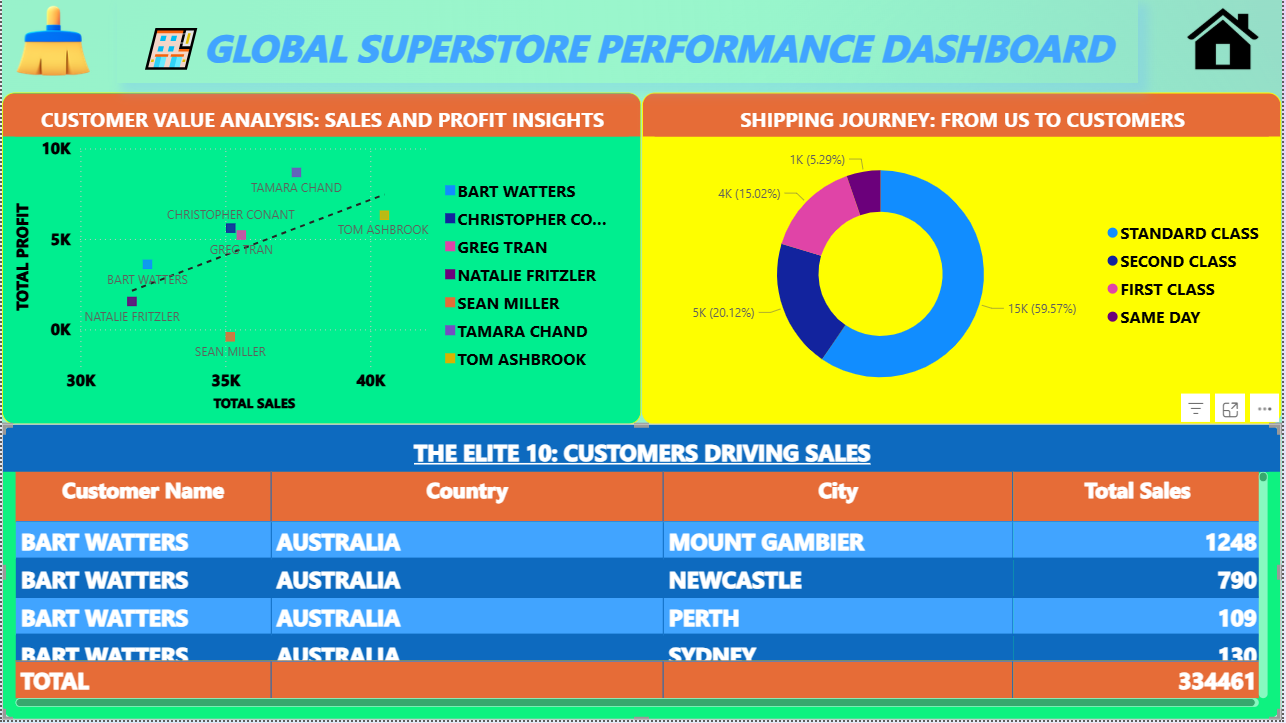

What the dashboard file says about the page in this screenshot:
{"tool":"powerbi","page":{"name":"CUSTOMER & OPERATIONAL INSIGHTS","canvas":[1280,720],"ordinal":2},"visuals":[{"type":"scatterChart","title":"CUSTOMER VALUE ANALYSIS: SALES AND PROFIT INSIGHTS","fields":{"X":["Orders.Total Sales"],"Y":["Orders.Total Profit"],"Category":["Orders.Customer Name"],"Series":["Orders.Customer Name"]},"box":[0,91.9,639.5,332.1],"z":0},{"type":"donutChart","title":"SHIPPING JOURNEY: FROM US TO CUSTOMERS","fields":{"Category":["Orders.Ship Mode"],"Y":["Orders.Total Orders"]},"box":[639.5,91.9,639.5,332.1],"z":1000},{"type":"tableEx","title":"THE ELITE 10: CUSTOMERS DRIVING SALES","fields":{"Values":["Orders.Customer Name","Orders.Country","Orders.City","Orders.Total Sales"]},"box":[0,424,1278.9,296.4],"z":2000},{"type":"textbox","box":[115.3,0,1020.9,83.4],"z":3000},{"type":"image","box":[1162,0,116.6,83.4],"z":4000},{"type":"image","box":[0,0,102.5,83.8],"z":5000}]}

Visuals, with their boxes in screenshot pixels (x1, y1, x2, y2), scaled from the page's 1280x720 canvas onto the 1286x723 screenshot:
"CUSTOMER VALUE ANALYSIS: SALES AND PROFIT INSIGHTS" scatterChart: left=0, top=92, right=642, bottom=426
"SHIPPING JOURNEY: FROM US TO CUSTOMERS" donutChart: left=642, top=92, right=1285, bottom=426
"THE ELITE 10: CUSTOMERS DRIVING SALES" tableEx: left=0, top=426, right=1285, bottom=722
textbox: left=116, top=0, right=1142, bottom=84
image: left=1167, top=0, right=1285, bottom=84
image: left=0, top=0, right=103, bottom=84
